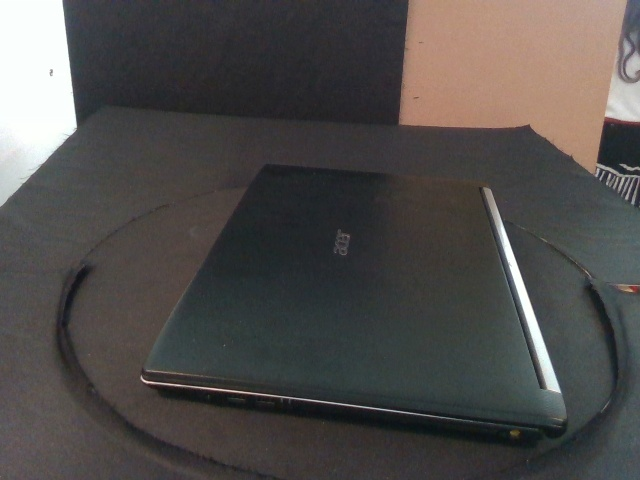laptop: (138, 163, 568, 450)
